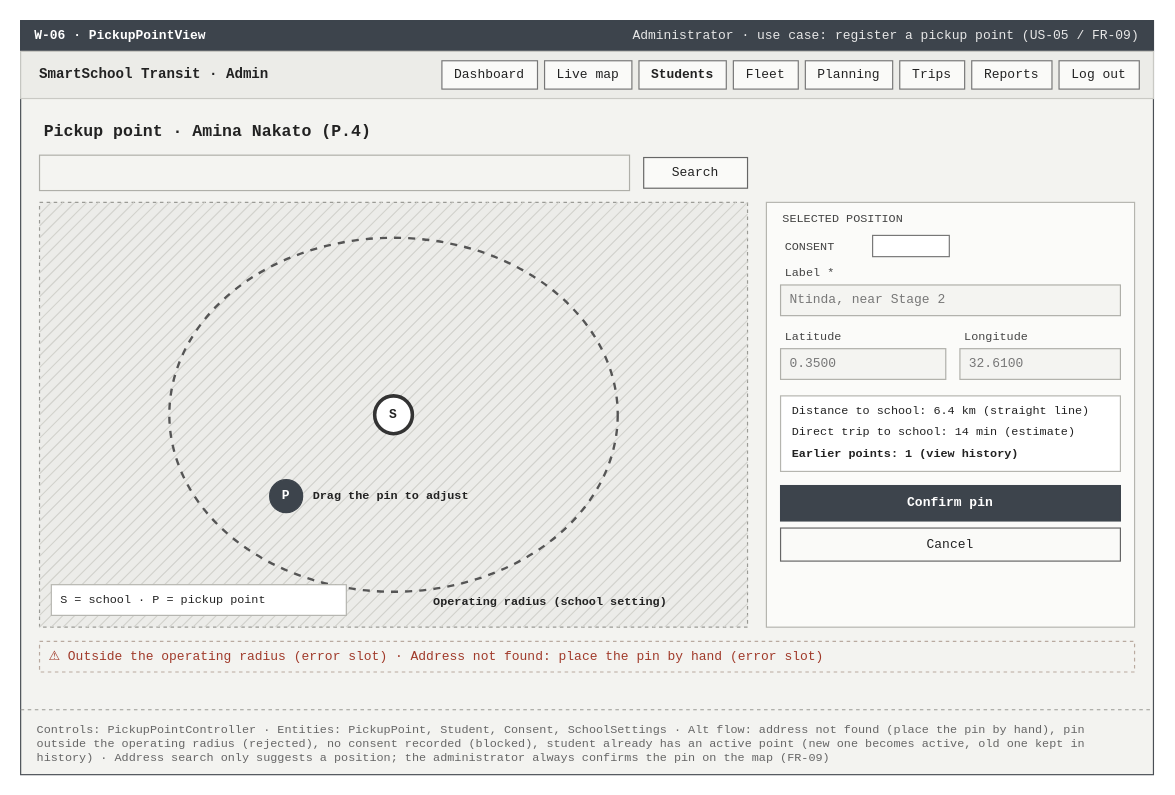
Image size: 1175x795. Some labels were removed from this diagram. Each missing label, with the box of its shape:
Recorded: (871, 234, 949, 257)
🔍 Search address or place…: (38, 154, 630, 191)
